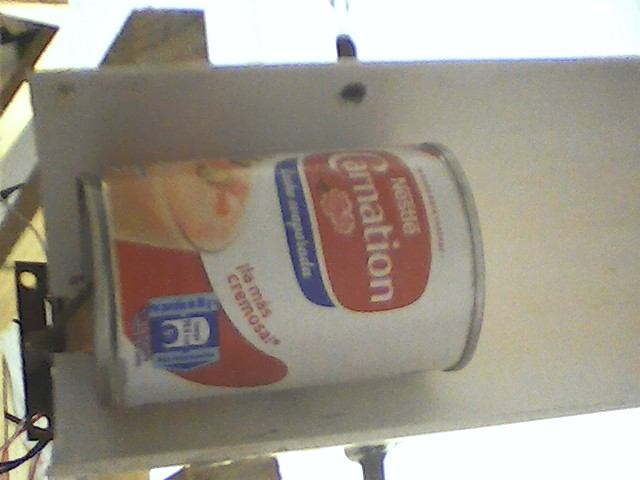lata: (73, 138, 490, 414)
